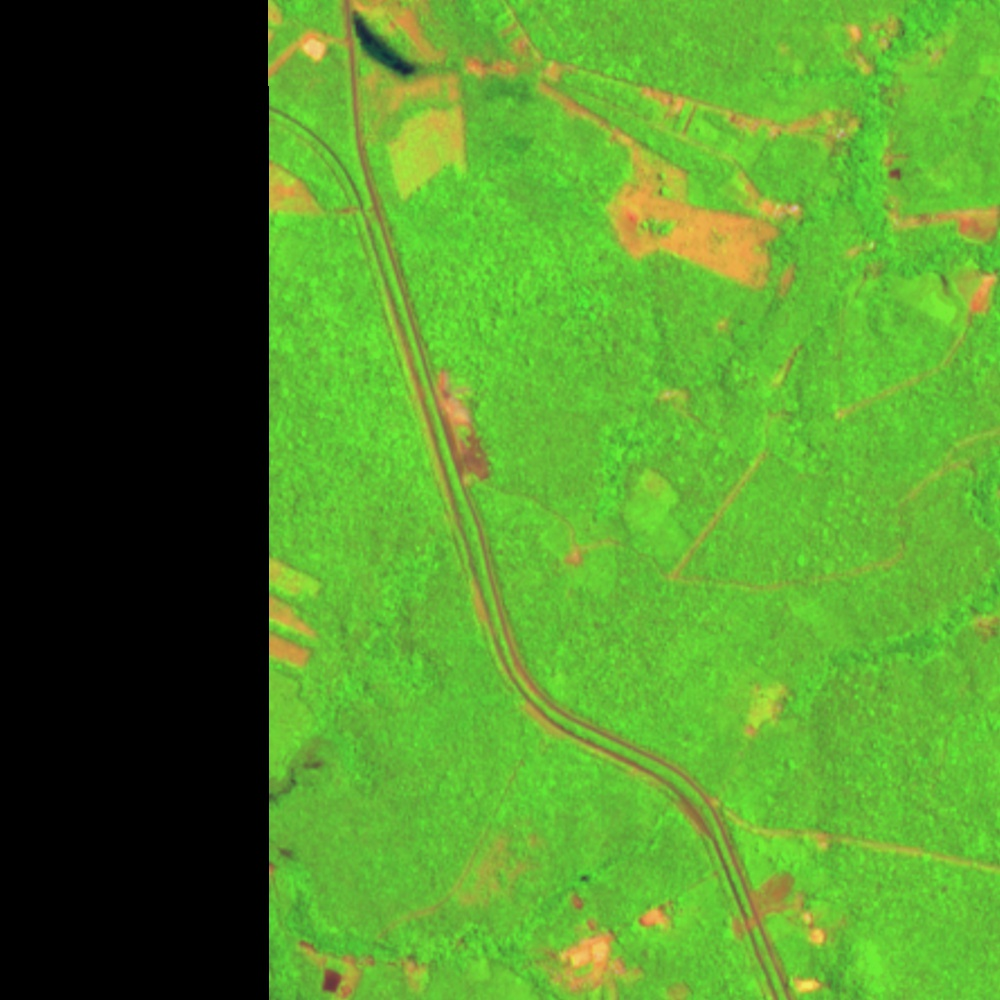legal: (606, 169, 806, 299), (876, 150, 1000, 309), (631, 79, 865, 144), (557, 890, 675, 1000), (376, 79, 476, 203), (838, 7, 945, 82), (264, 537, 322, 674), (442, 374, 493, 484), (295, 932, 376, 1000), (761, 871, 830, 950), (355, 11, 423, 82), (737, 679, 798, 737), (788, 969, 822, 993)
